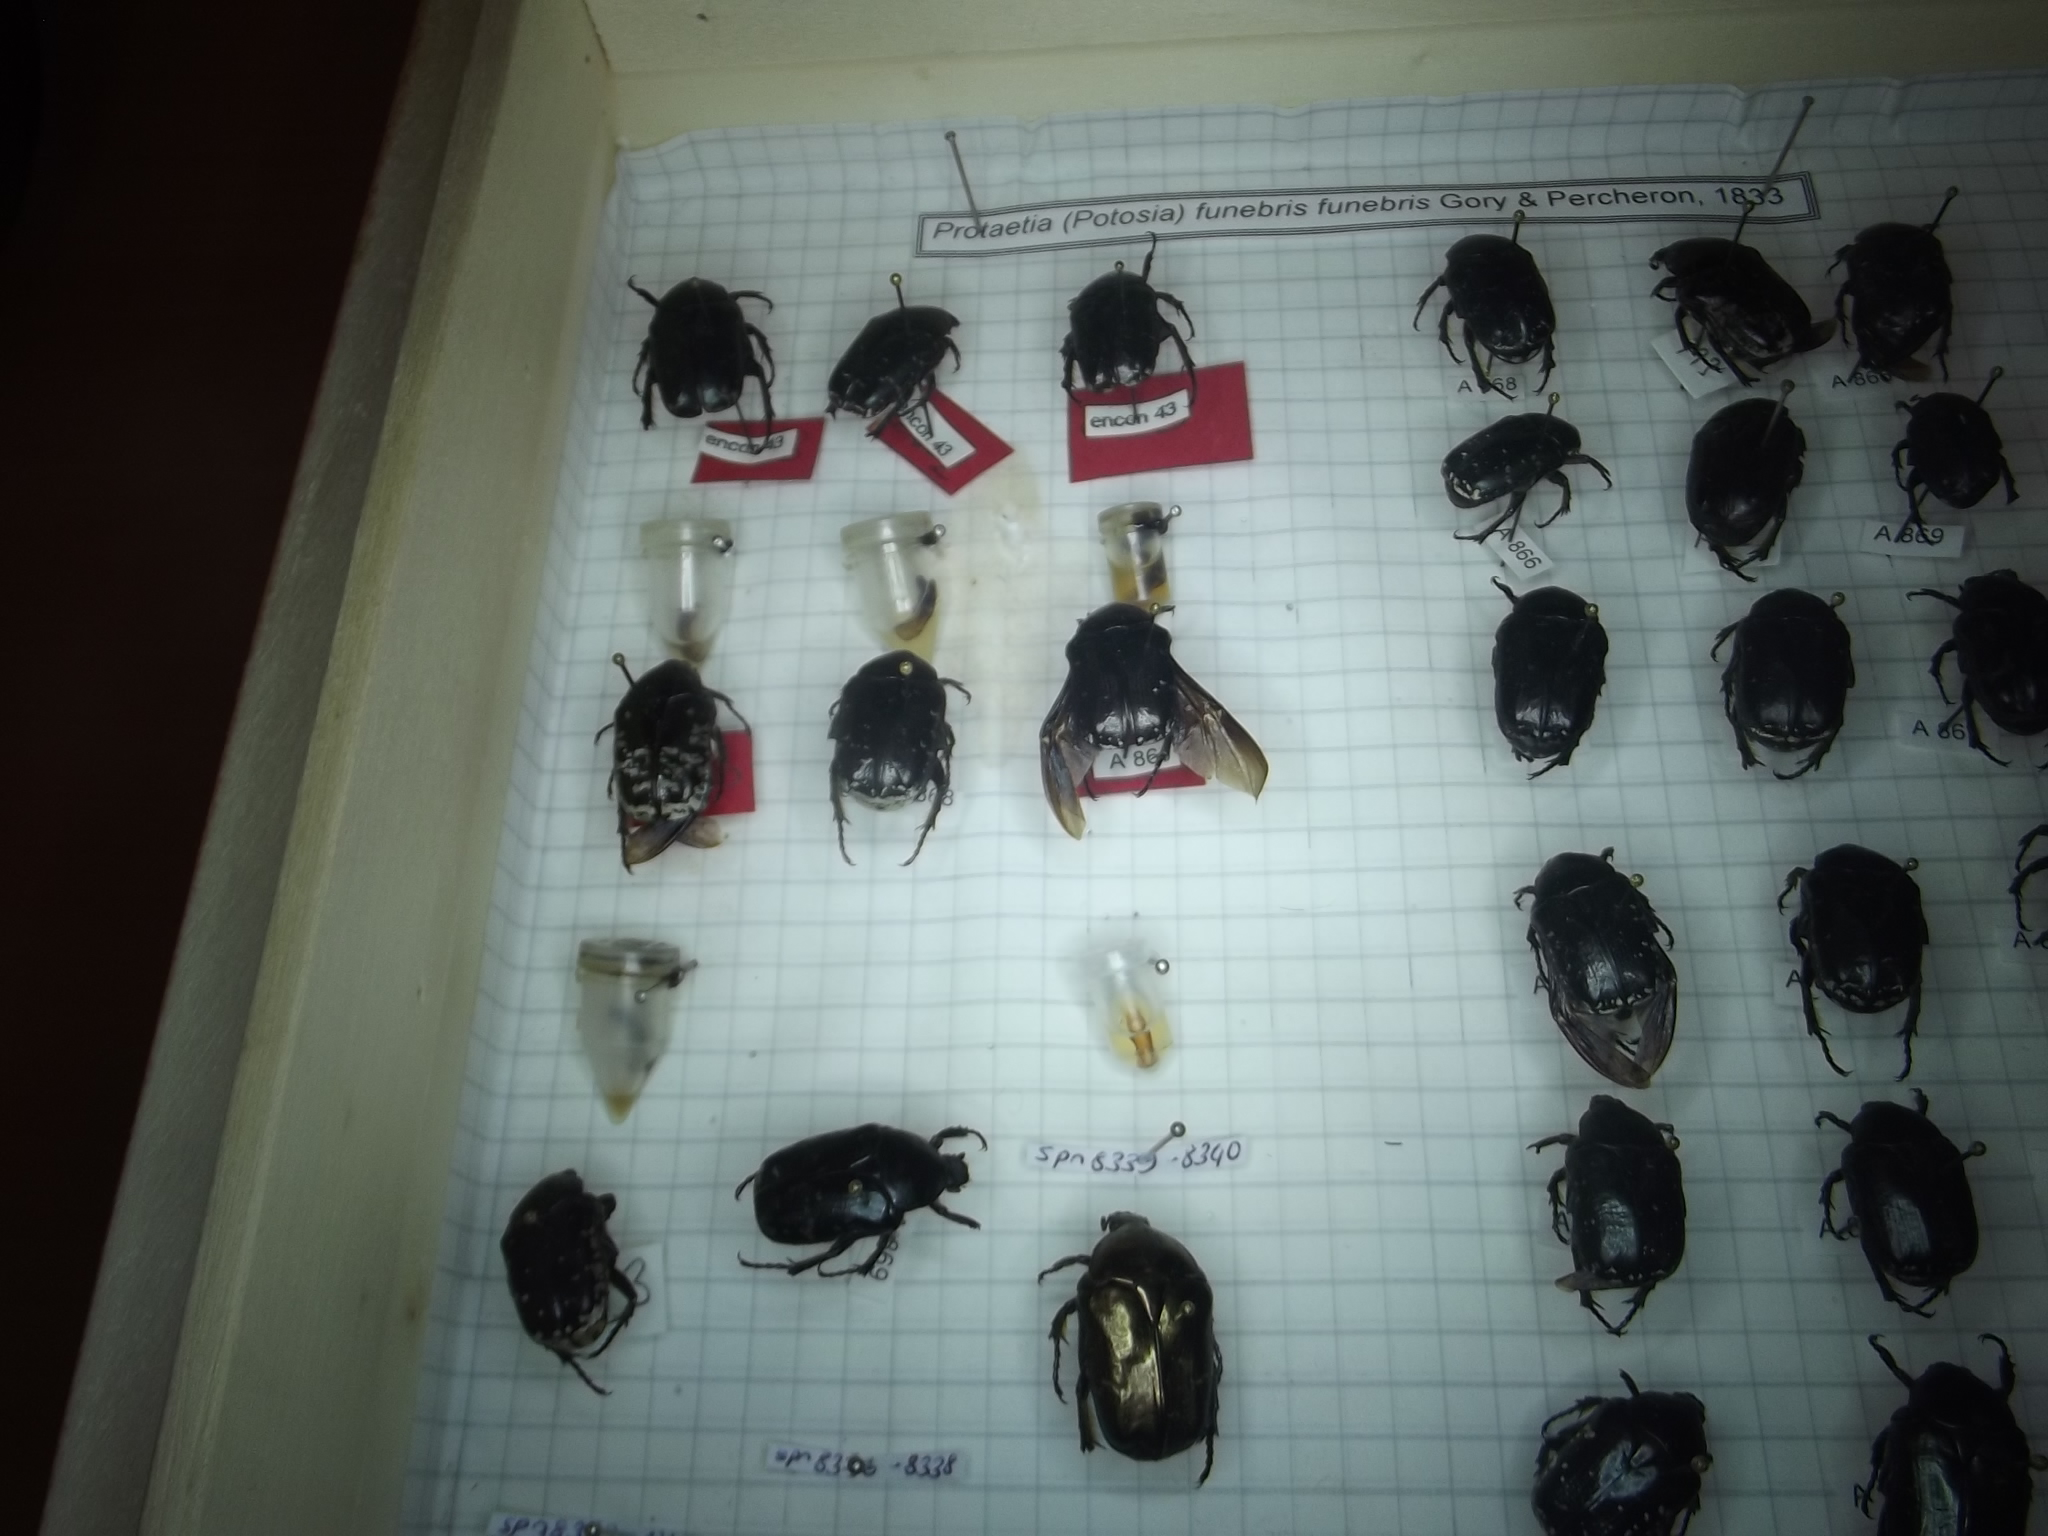Protaetia_funebris_funebris: (1043, 1186, 1264, 1505), (1501, 802, 1727, 1070), (729, 1117, 1005, 1305), (584, 645, 753, 871)
